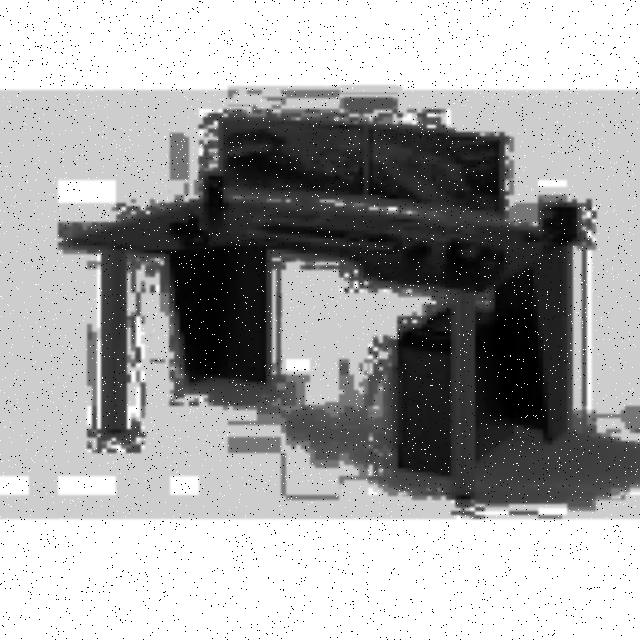table: (68, 195, 587, 496)
